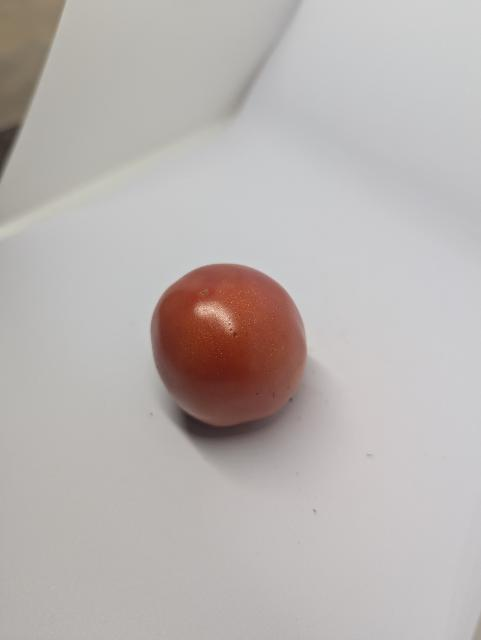red: (146, 254, 320, 438)
